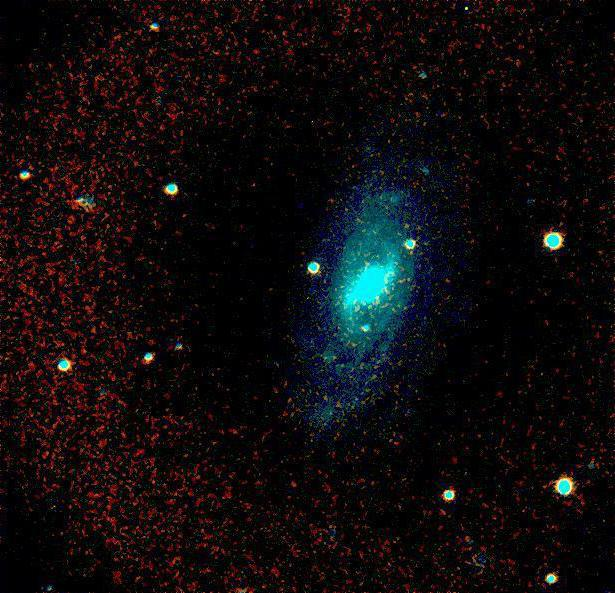star: (337, 386, 367, 416)
